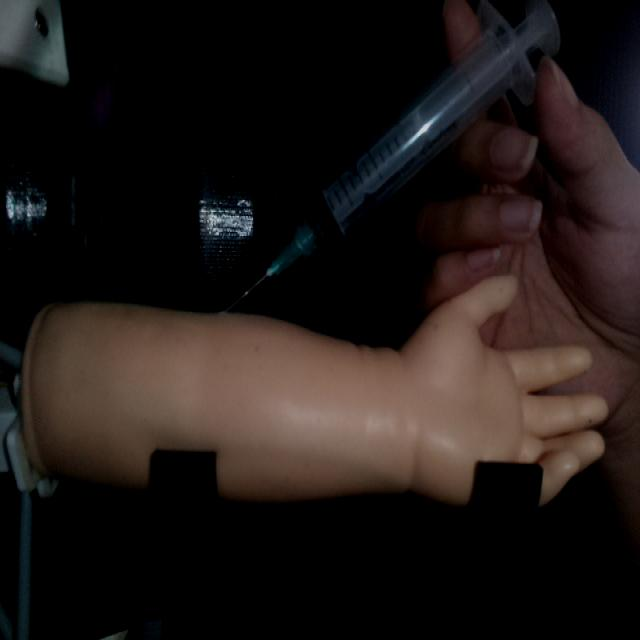Above 30 degrees: (218, 0, 562, 313)
